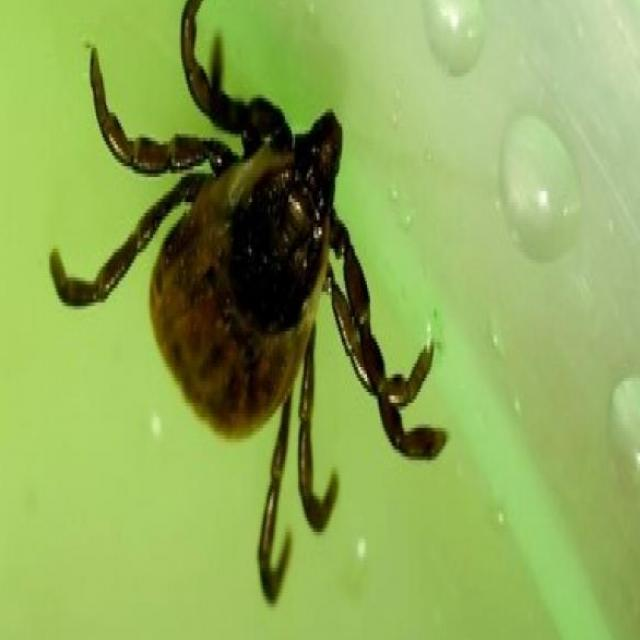Rhipicephalus Sanguineus-F: (51, 0, 449, 604)
